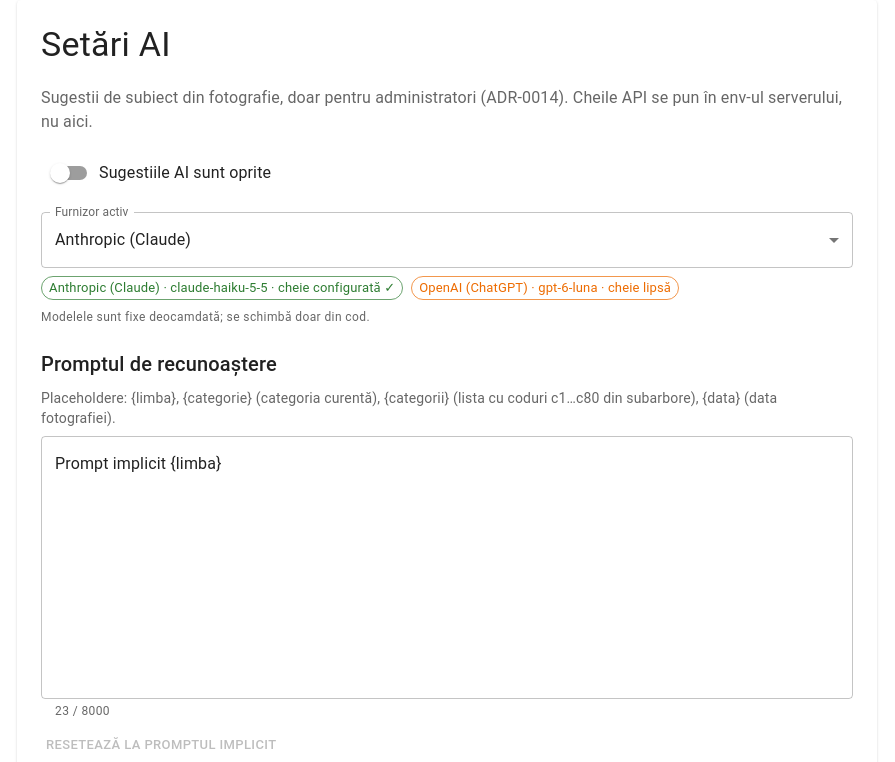
Scenario: admin: cheile ca stare, salvarea trimite promptul implicit ca null și limitele ca numere
The image size is (895, 762).
Expected: the text "Anthropic (Claude) · claude-haiku-5-5 · cheie configurată ✓" is shown, left=42, top=278, right=402, bottom=298
Expected: the text "OpenAI (ChatGPT) · gpt-6-luna · cheie lipsă" is shown, left=412, top=278, right=678, bottom=298
Click the switch labelled "Sugestiile AI sunt oprite" at (161, 173), box left=50, top=163, right=271, bottom=183
(page scrolled)
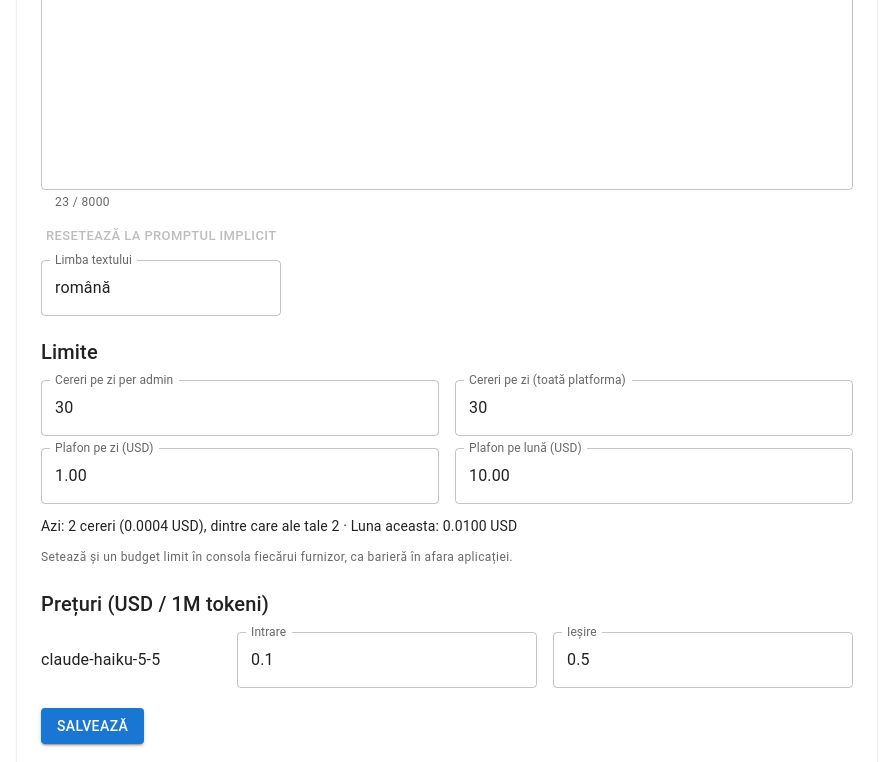
Replace the text in the number field labelled "Cereri pe zi per admin" with "12" at (240, 408), box left=41, top=380, right=439, bottom=436
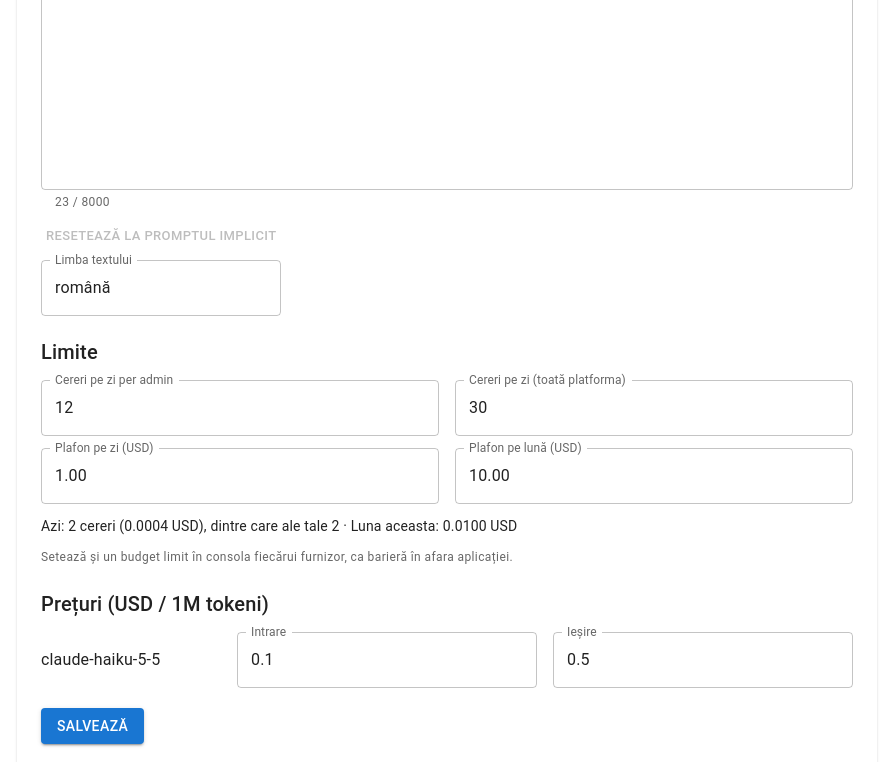
Click the button "Salvează" at (93, 726), box left=41, top=708, right=144, bottom=744
(page scrolled)
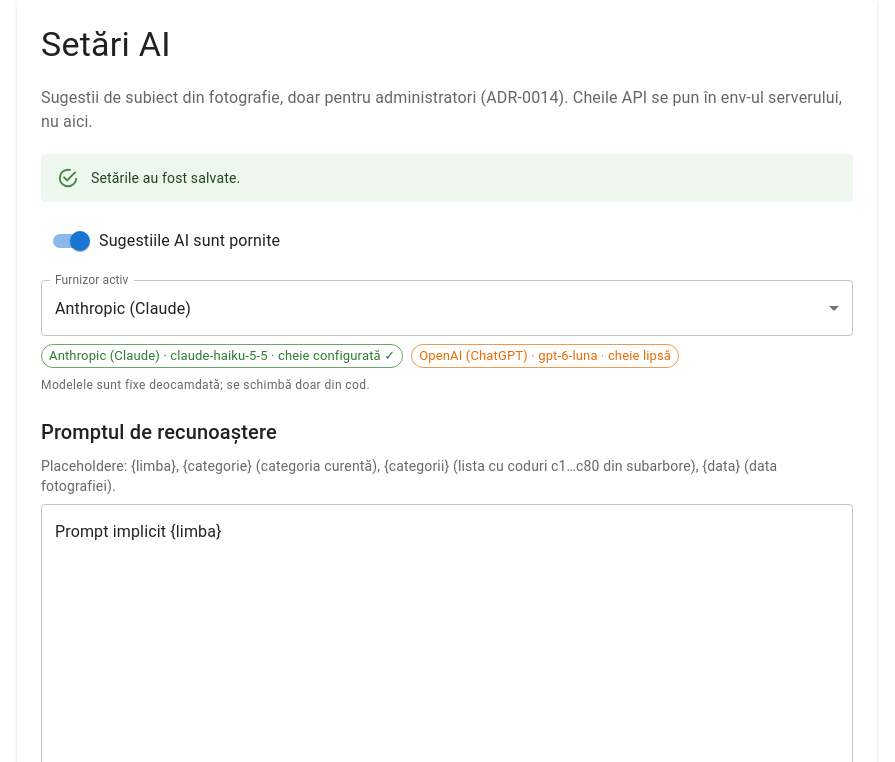
Expected: the text "Sugestiile AI sunt pornite" is shown, left=99, top=229, right=280, bottom=253
Expected: the text "Setările au fost salvate." is shown, left=91, top=170, right=240, bottom=186
